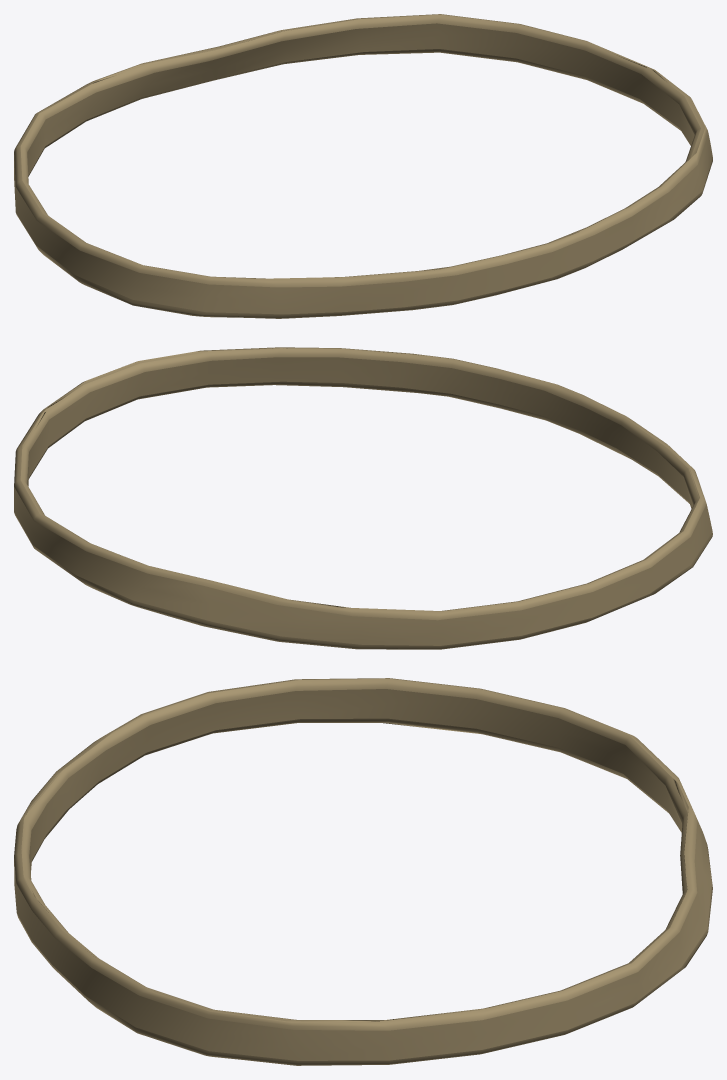
The model's file is armor.monk.default.gltf.
The picture shows the model from 3 angles, top to bottom: view 1: azimuth 30°, elevation 25°; view 2: azimuth 150°, elevation 25°; view 3: azimuth 270°, elevation 25°; orthographic projection. The views are drawn at different scales.
Parts seen in each view (by area): view 1: monk.belt; view 2: monk.belt; view 3: monk.belt.
Boxes of the visible parts, x1,y1,x2,y2 form: monk.belt: [14, 14, 712, 318]; monk.belt: [14, 347, 712, 649]; monk.belt: [14, 678, 712, 1065].
Bounding box in the file's own units: 0.4298 × 0.0274 × 0.3636.
